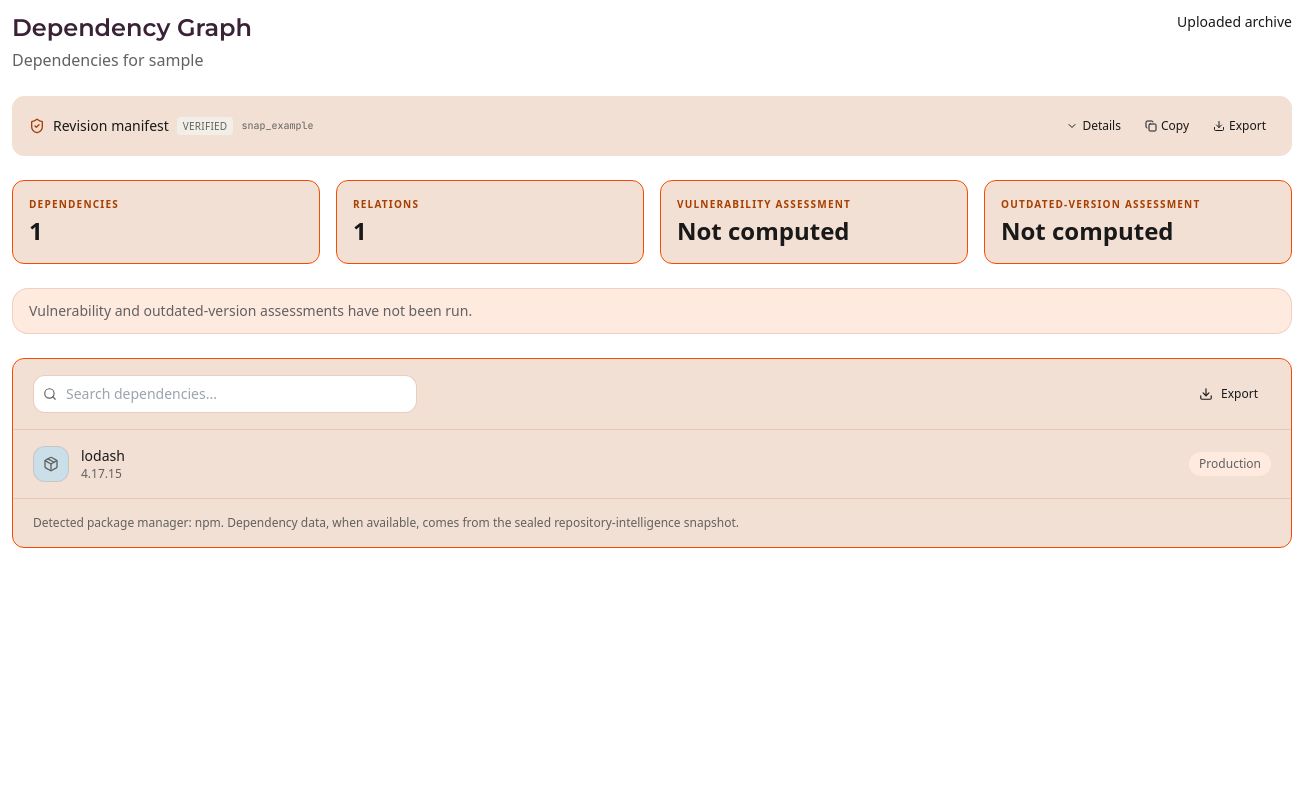
DependenciesPage › keeps the sealed snapshot identity one click away instead of on the landing strip (#176)
Expected: the element with test id "revision-manifest" is shown, x1=12 y1=96 x2=1292 y2=156
Expected: the text "snap_example" is shown, x1=241 y1=119 x2=313 y2=133
Click the button "Details". click: [1094, 126]
box: x1=1057 y1=113 x2=1130 y2=139
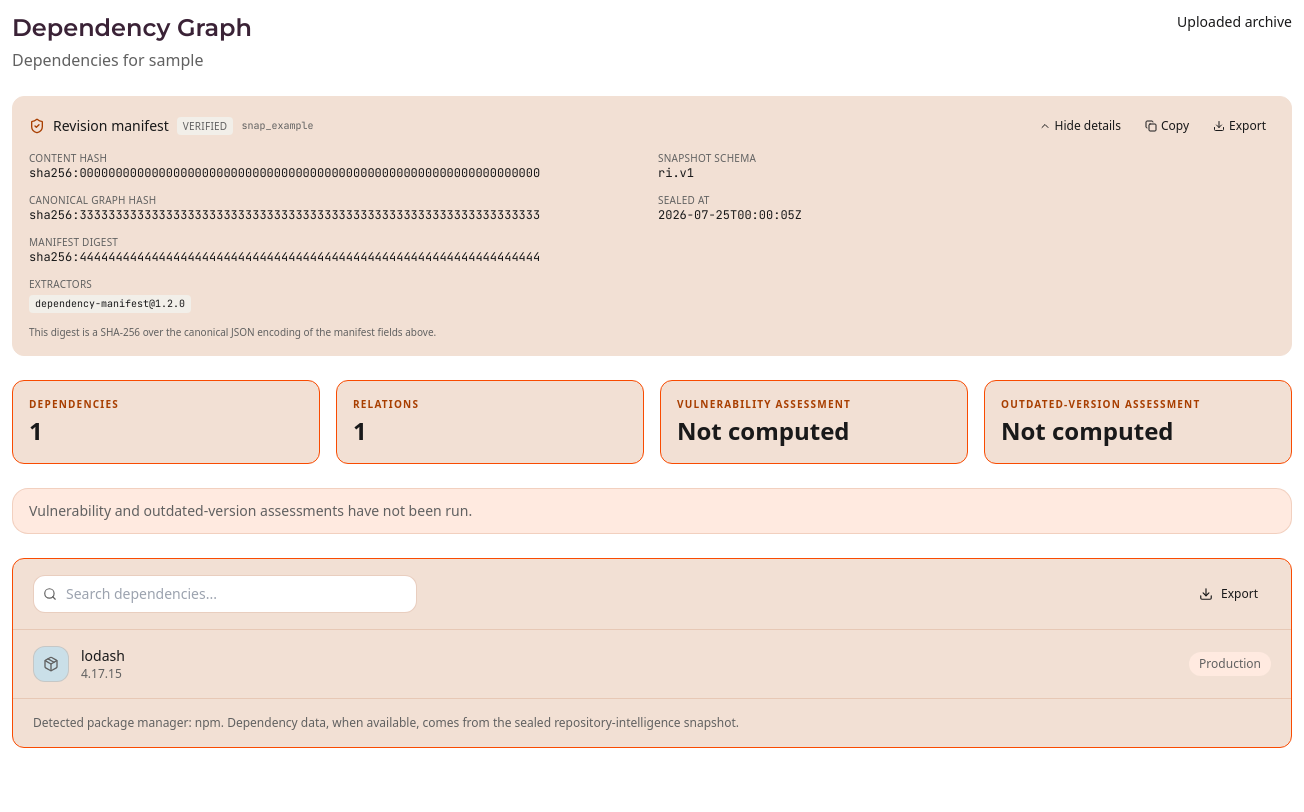
Expected: the text "Manifest digest" is shown, x1=29 y1=235 x2=118 y2=249
Expected: the text "sha256:4444444444444444444444444444444444444444444444444444444444444444" is shown, x1=29 y1=249 x2=540 y2=265
Expected: the text "Canonical graph hash" is shown, x1=29 y1=193 x2=156 y2=207
